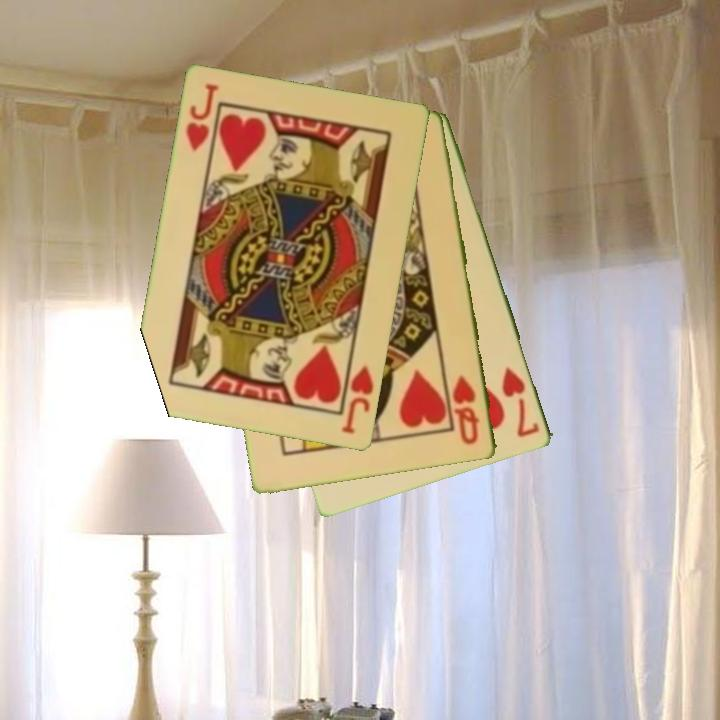7h: (499, 363, 543, 441)
Jh: (182, 80, 222, 155), (339, 362, 377, 437)
Qh: (449, 372, 483, 449)
